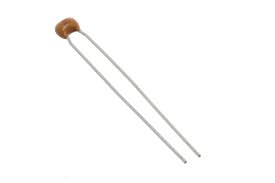ceramic capacitor: (34, 7, 113, 80)
